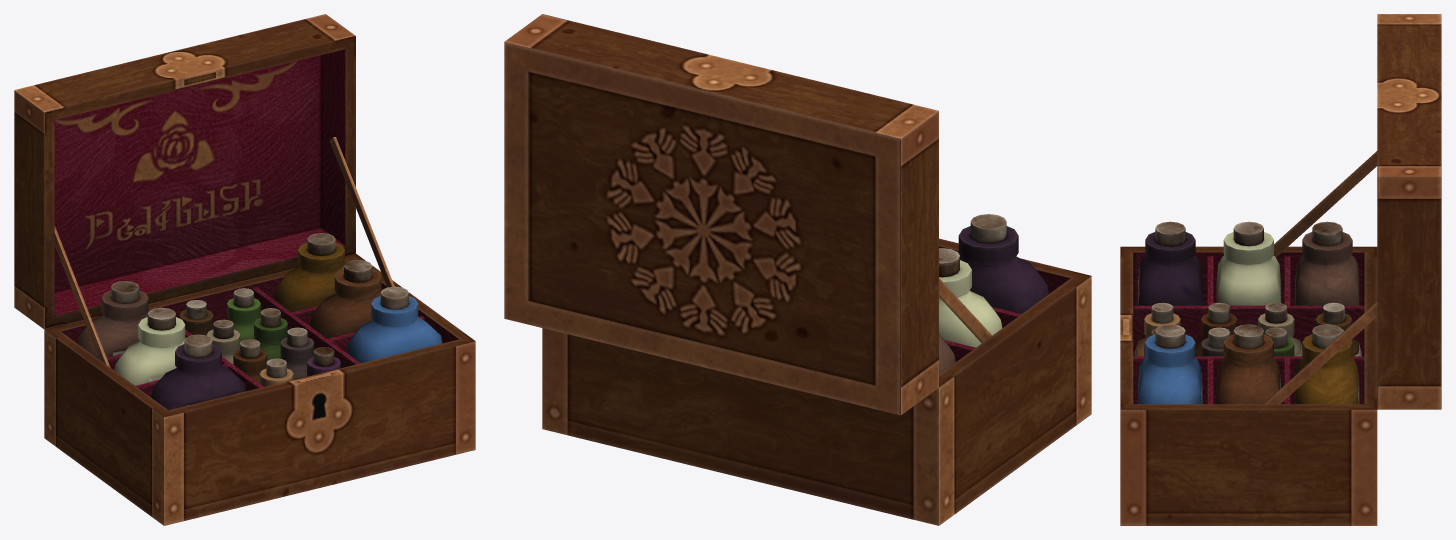
Rendered from DS_WizLab_Clut_FlaskBox.fbx.
3 renders of one model, left to right at view 1: azimuth 30°, elevation 25°; view 2: azimuth 150°, elevation 25°; view 3: azimuth 270°, elevation 25°, orthographic. The views are drawn at different scales.
Parts seen in each view (by area): view 1: DS_WizLab_Clut_FlaskBox; view 2: DS_WizLab_Clut_FlaskBox; view 3: DS_WizLab_Clut_FlaskBox.
Boxes of the visible parts, left/top/right/bottom form: DS_WizLab_Clut_FlaskBox: left=14, top=14, right=475, bottom=525; DS_WizLab_Clut_FlaskBox: left=504, top=14, right=1091, bottom=525; DS_WizLab_Clut_FlaskBox: left=1120, top=14, right=1441, bottom=525.
Size of the model in its own units: 60 by 60 by 50.
1 material, 1 textured.
